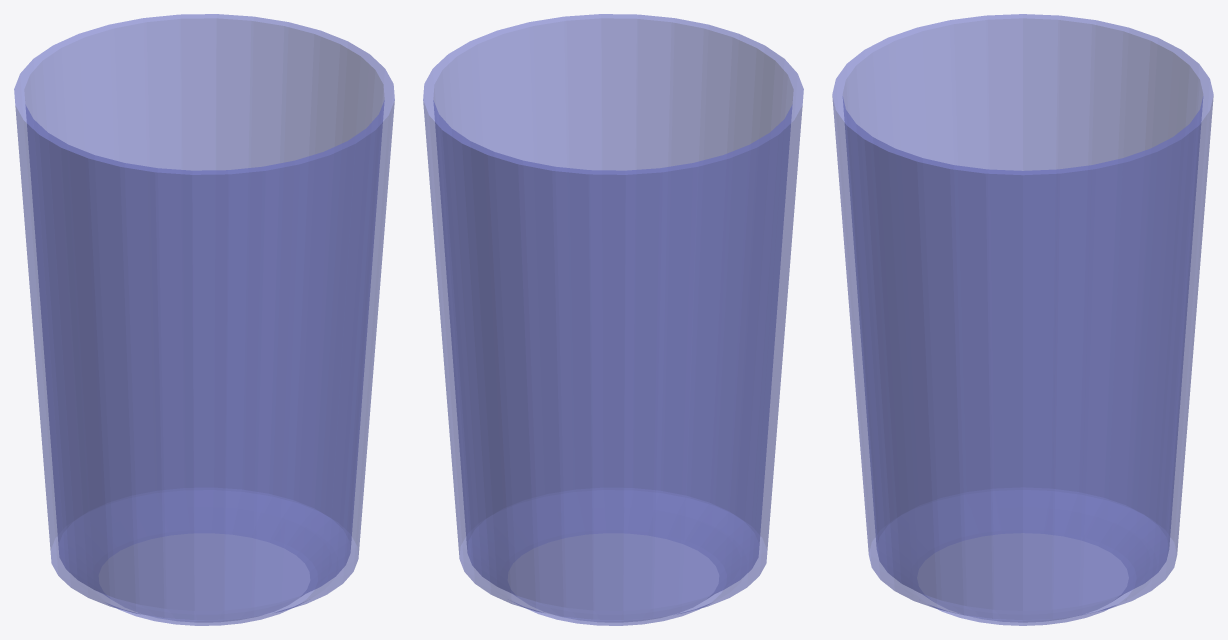
File: vaso4.fbx
3 renders of one model, left to right at view 1: azimuth 30°, elevation 25°; view 2: azimuth 150°, elevation 25°; view 3: azimuth 270°, elevation 25°, orthographic.
Parts seen in each view (by area): view 1: Cylinder; view 2: Cylinder; view 3: Cylinder.
Part boxes in pixels (x1=…): Cylinder: x1=14, y1=14, x2=394, y2=625; Cylinder: x1=423, y1=14, x2=803, y2=625; Cylinder: x1=832, y1=14, x2=1213, y2=625.
Size of the model in its own units: 477 by 666 by 477.
